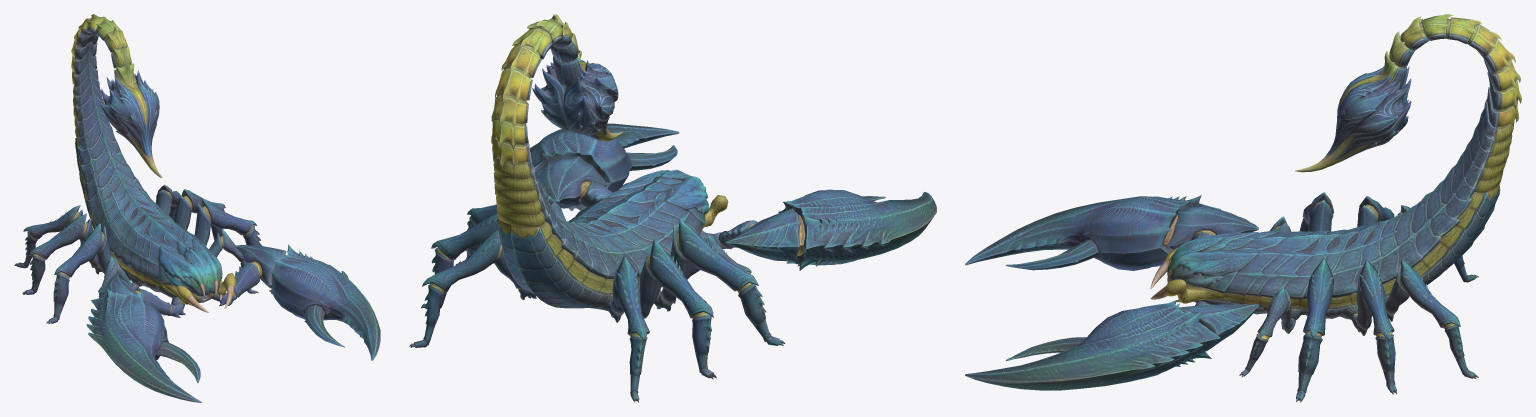
Rendered from pet-1067.glb.
The picture shows the model from 3 angles, left to right: view 1: azimuth 30°, elevation 25°; view 2: azimuth 150°, elevation 25°; view 3: azimuth 270°, elevation 25°; orthographic projection. The views are drawn at different scales.
Parts seen in each view (by area): view 1: VEH_Scorpion_01; view 2: VEH_Scorpion_01; view 3: VEH_Scorpion_01.
Boxes of the visible parts, x1,y1,x2,y2 form: VEH_Scorpion_01: [14, 14, 380, 402]; VEH_Scorpion_01: [409, 14, 936, 402]; VEH_Scorpion_01: [965, 14, 1521, 402].
Size of the model in its own units: 1.56 by 1.39 by 2.21.
Materials: 1 (1 with a texture image).
